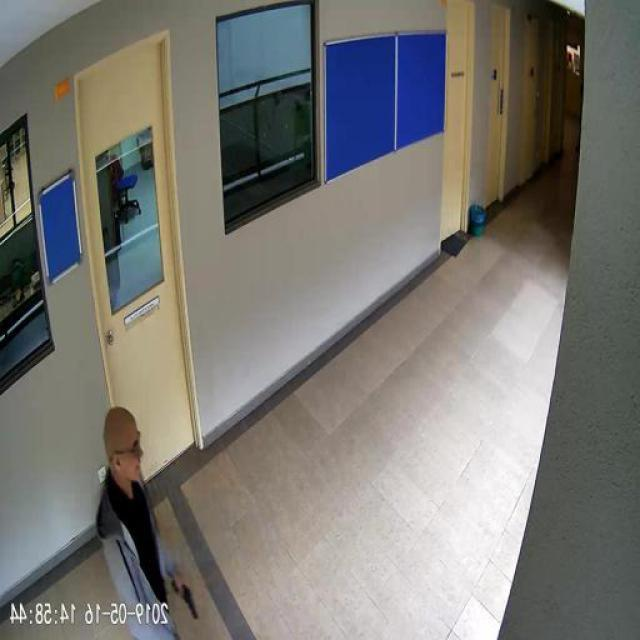weapon: (168, 579, 200, 622)
